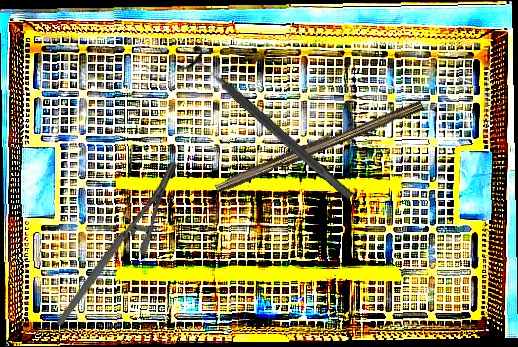Fixation Ring: (176, 42, 362, 210)
Needle Holder: (18, 159, 215, 327)
Scalpel Handle: (212, 94, 425, 197)
